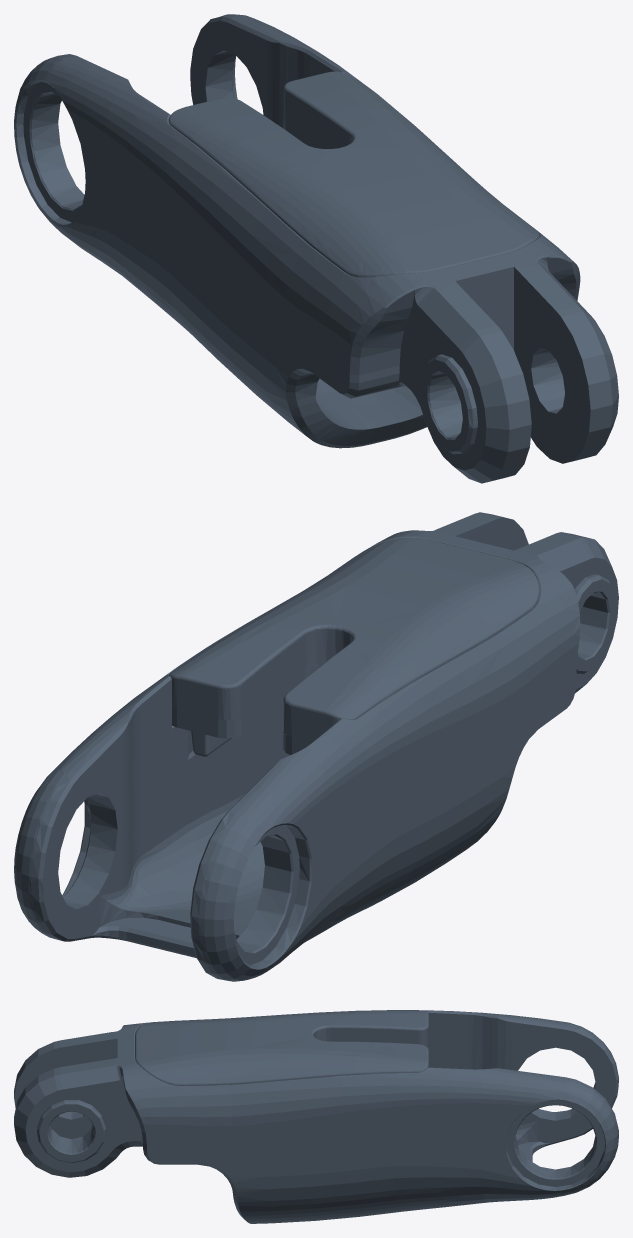
Rendered from L_ring_prox.dae.
The picture shows the model from 3 angles, top to bottom: view 1: azimuth 30°, elevation 25°; view 2: azimuth 150°, elevation 25°; view 3: azimuth 270°, elevation 25°; orthographic projection. The views are drawn at different scales.
Visible parts, largest first — view 1: L_ring_prox; view 2: L_ring_prox; view 3: L_ring_prox.
Boxes of the visible parts, left/top/right/bottom form: L_ring_prox: left=14, top=14, right=618, bottom=483; L_ring_prox: left=14, top=512, right=618, bottom=981; L_ring_prox: left=14, top=1010, right=618, bottom=1223.
Bounding box in the file's own units: 0.0154 × 0.0525 × 0.0172.
